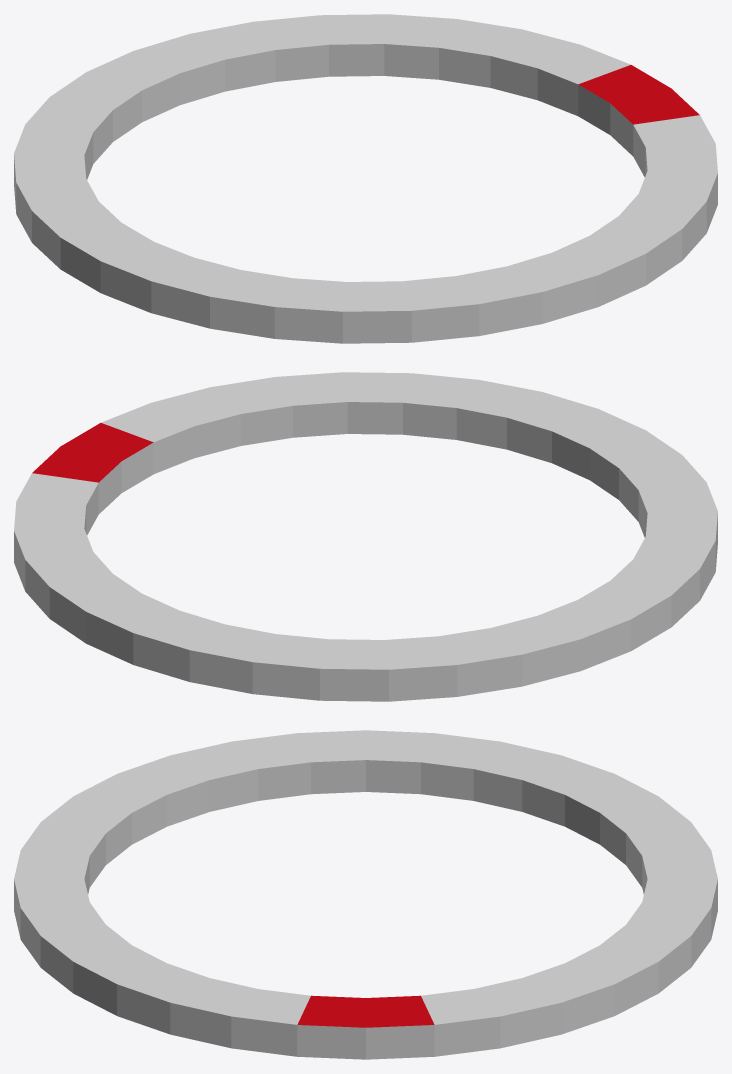
3 renders of one model, top to bottom at view 1: azimuth 30°, elevation 25°; view 2: azimuth 150°, elevation 25°; view 3: azimuth 270°, elevation 25°, orthographic.
Parts seen in each view (by area): view 1: Cylinder; view 2: Cylinder; view 3: Cylinder.
Part boxes in pixels (left/top/right/bottom): Cylinder: left=14, top=14, right=717, bottom=343; Cylinder: left=14, top=372, right=717, bottom=701; Cylinder: left=14, top=730, right=717, bottom=1059.
Size of the model in its own units: 200 by 10 by 200.
